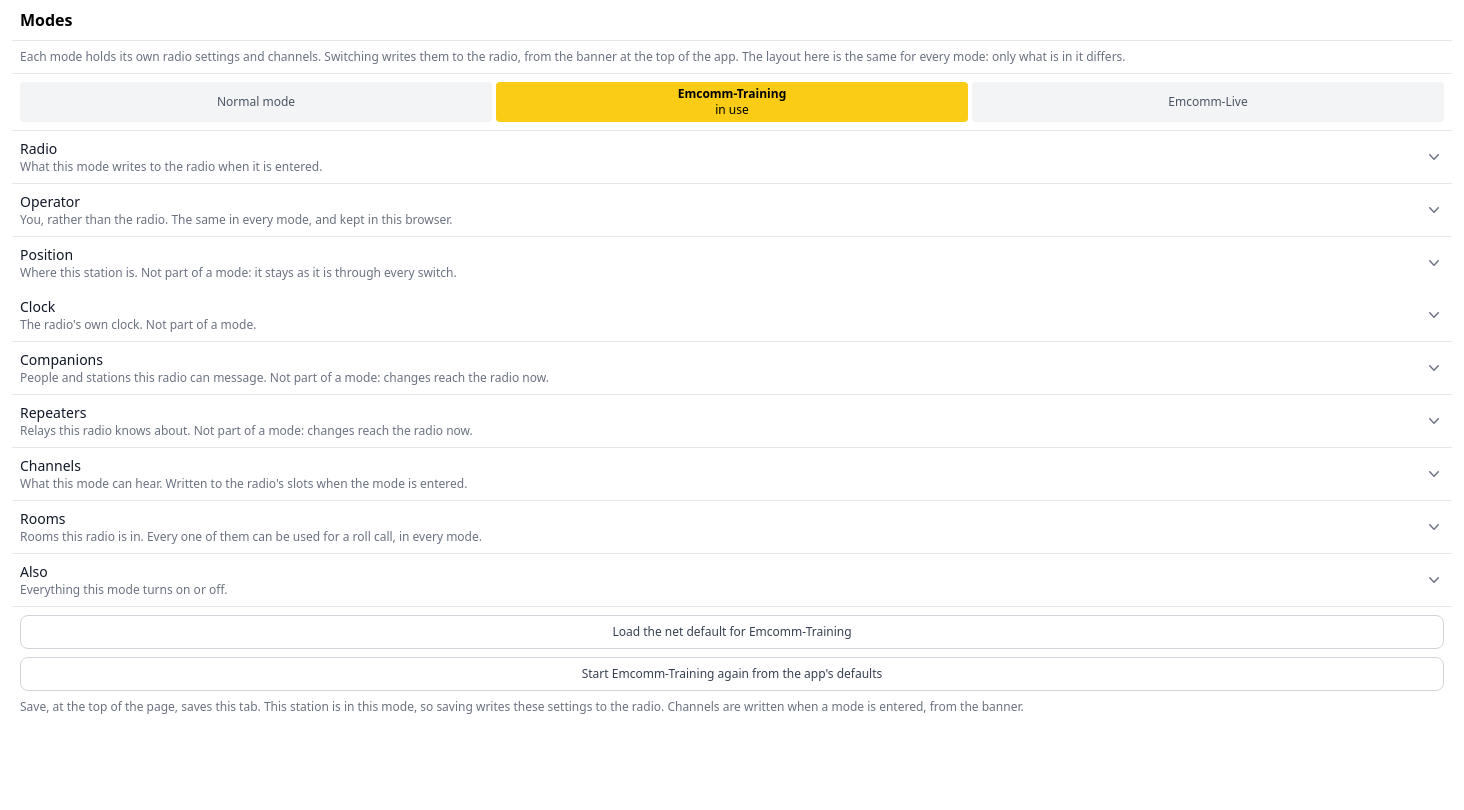
it: normal mode on a station that is not at home › says so on the Normal tab, with nothing to save
Click the button "Normal mode": [256, 102] box [20,82,492,122]
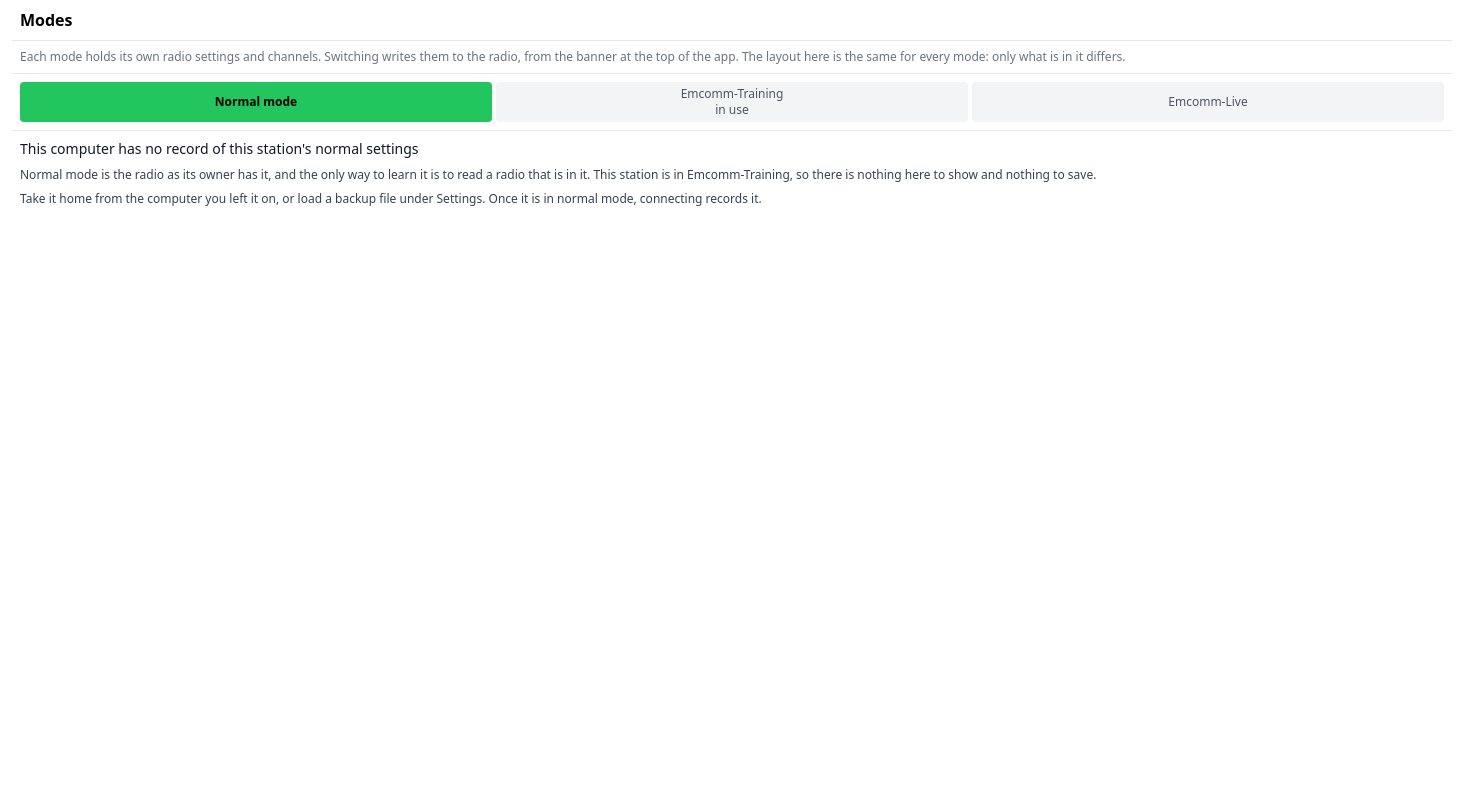
Expected: the text "no record of this station's normal settings" is shown, [20,139,419,158]
